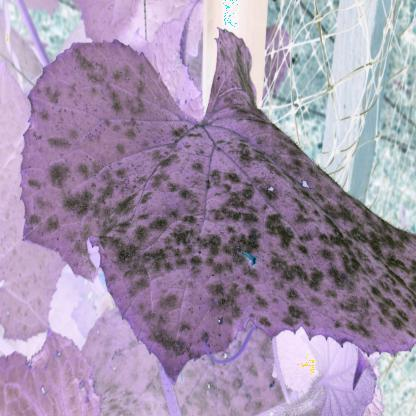Squash Powdery mildew leaf: (13, 24, 416, 390)
